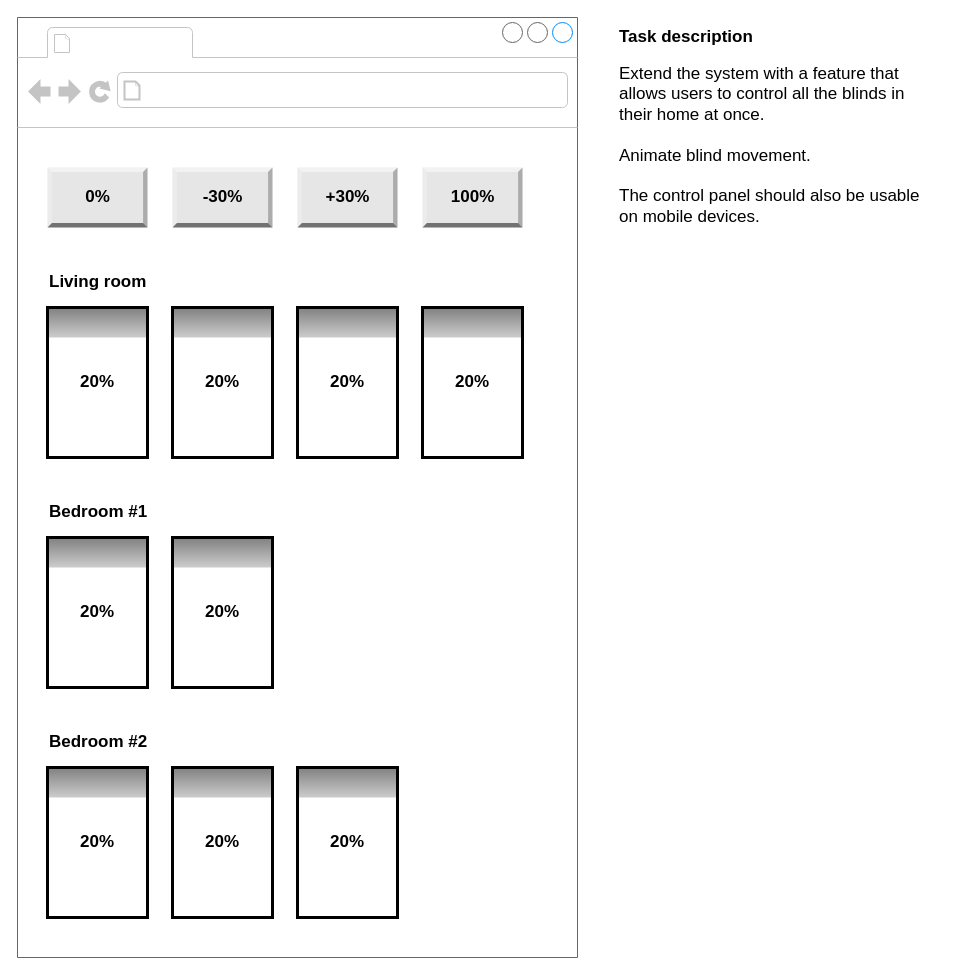
This 955x975 diagram has some shape labels left out. Each missing label, with the centre of its shape:
"App" goes at pixel 132 42.
"http://localhost:4200" goes at pixel 272 90.
